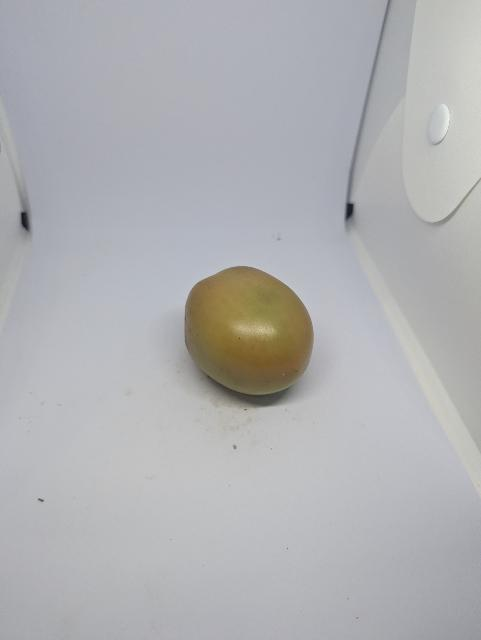breaker: (182, 263, 321, 402)
